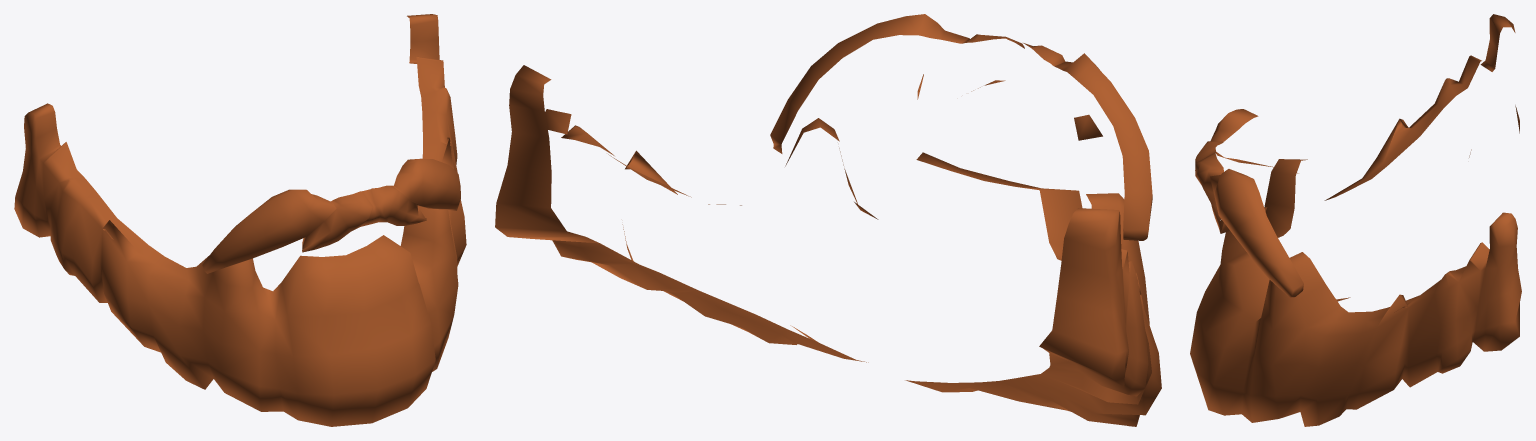
3 renders of one model, left to right at view 1: azimuth 30°, elevation 25°; view 2: azimuth 150°, elevation 25°; view 3: azimuth 270°, elevation 25°, orthographic. The views are drawn at different scales.
Parts seen in each view (by area): view 1: Wolf3D_Beard.004; view 2: Wolf3D_Beard.004; view 3: Wolf3D_Beard.004.
Boxes of the visible parts, x1,y1,x2,y2 form: Wolf3D_Beard.004: (14,14,466,426); Wolf3D_Beard.004: (495,14,1161,426); Wolf3D_Beard.004: (1190,14,1521,426).
Bounding box in the file's own units: 0.1546 × 0.091 × 0.0993.
Materials: 1 (1 with a texture image).
